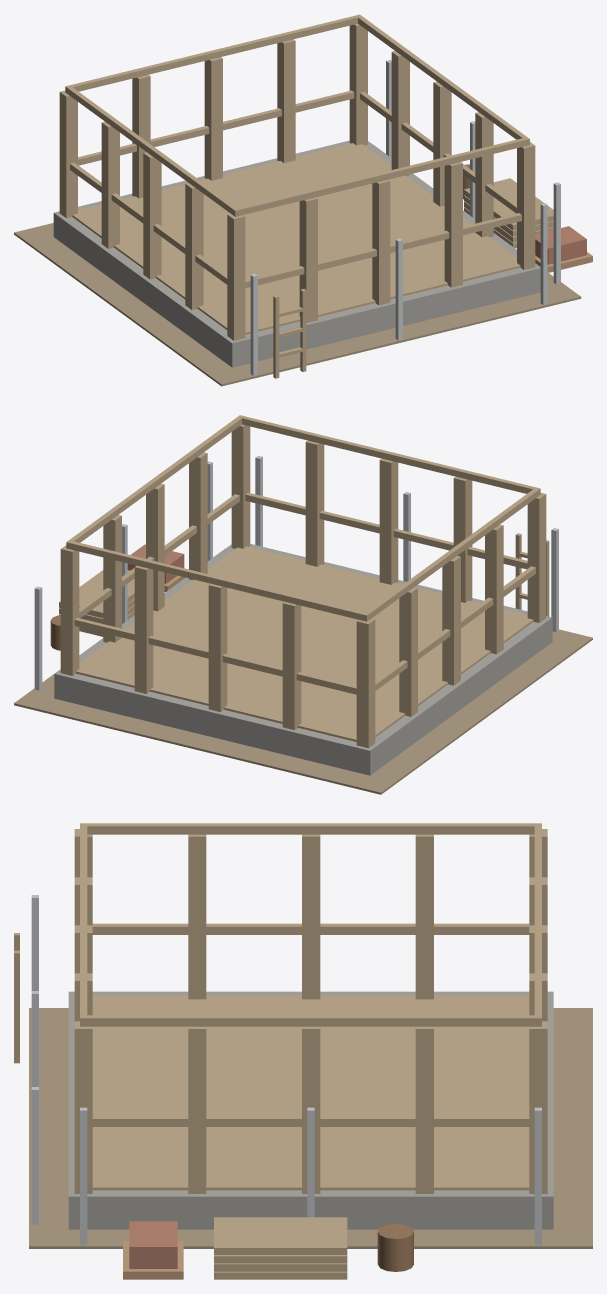
The model's file is nursery_barn_site_4.glb.
The picture shows the model from 3 angles, top to bottom: view 1: azimuth 30°, elevation 25°; view 2: azimuth 150°, elevation 25°; view 3: azimuth 270°, elevation 25°; orthographic projection. The views are drawn at different scales.
Parts seen in each view (by area): view 1: body; view 2: body; view 3: body.
Part boxes in pixels (x1,y1,x2,y2): body: (14, 14, 592, 386); body: (14, 415, 592, 794); body: (14, 823, 592, 1279).
Size of the model in its own units: 2.1 by 0.761 by 1.91.
